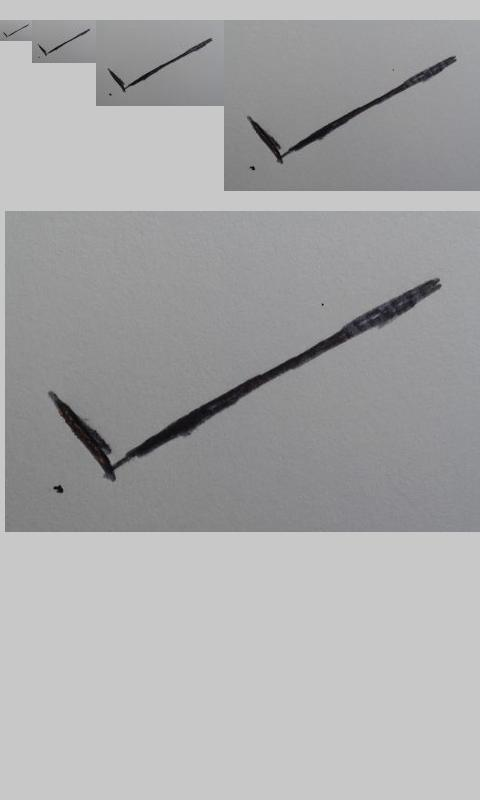check_box: (50, 278, 439, 479), (247, 57, 457, 162), (108, 39, 213, 92), (38, 29, 89, 56), (3, 24, 29, 38)
